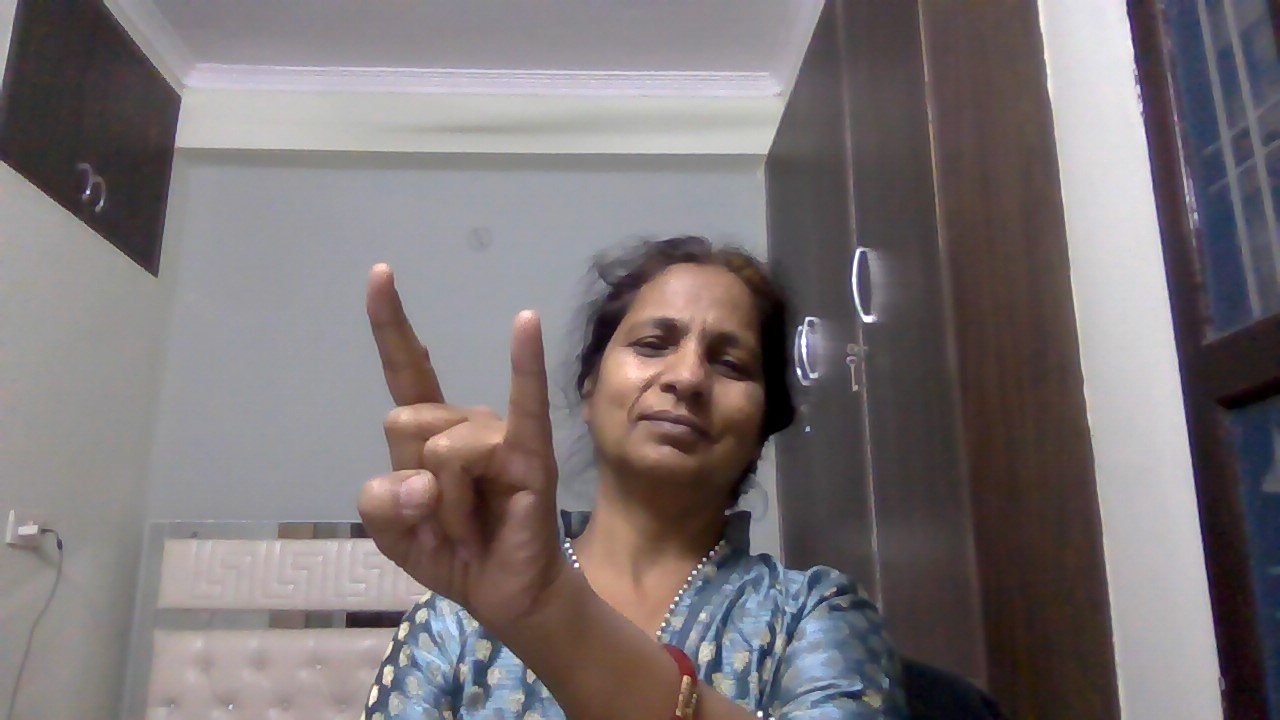Select All: (340, 250, 582, 648)
